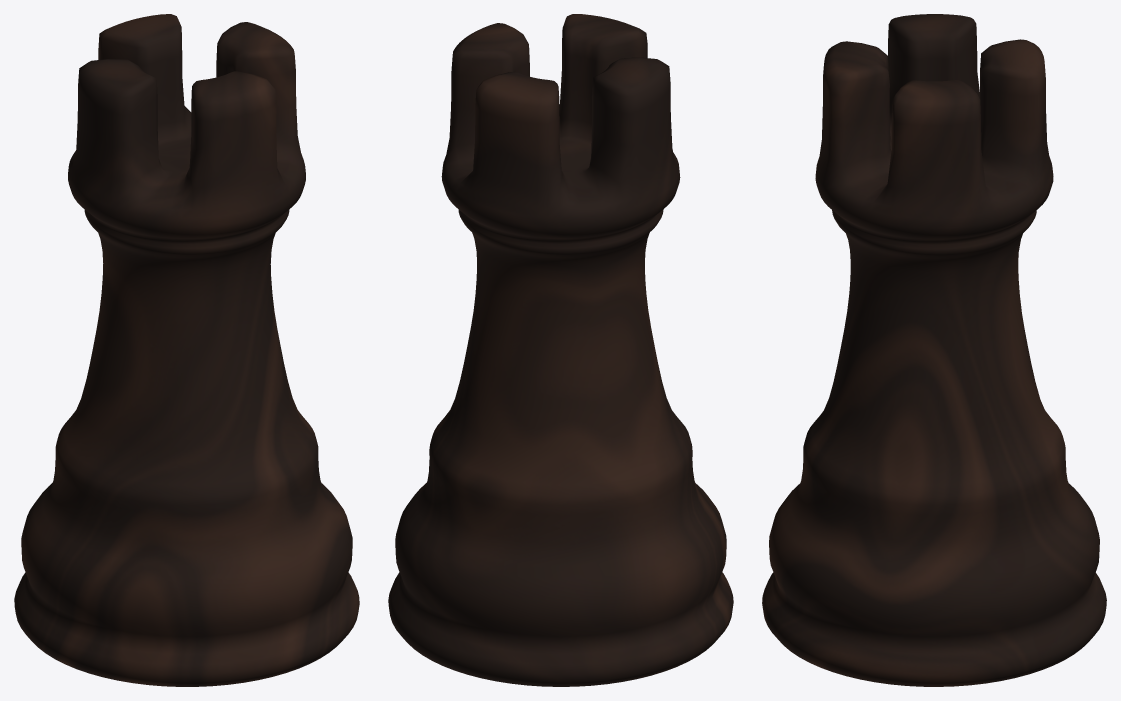
File: blackRook.fbx
The picture shows the model from 3 angles, left to right: view 1: azimuth 30°, elevation 25°; view 2: azimuth 150°, elevation 25°; view 3: azimuth 270°, elevation 25°; orthographic projection.
Parts seen in each view (by area): view 1: blackRook; view 2: blackRook; view 3: blackRook.
Part boxes in pixels (x1,y1,x2,y2): blackRook: (14,14,359,686); blackRook: (388,14,733,686); blackRook: (762,14,1106,686).
Size of the model in its own units: 70 by 128 by 70.
Materials: 1 (1 with a texture image).
